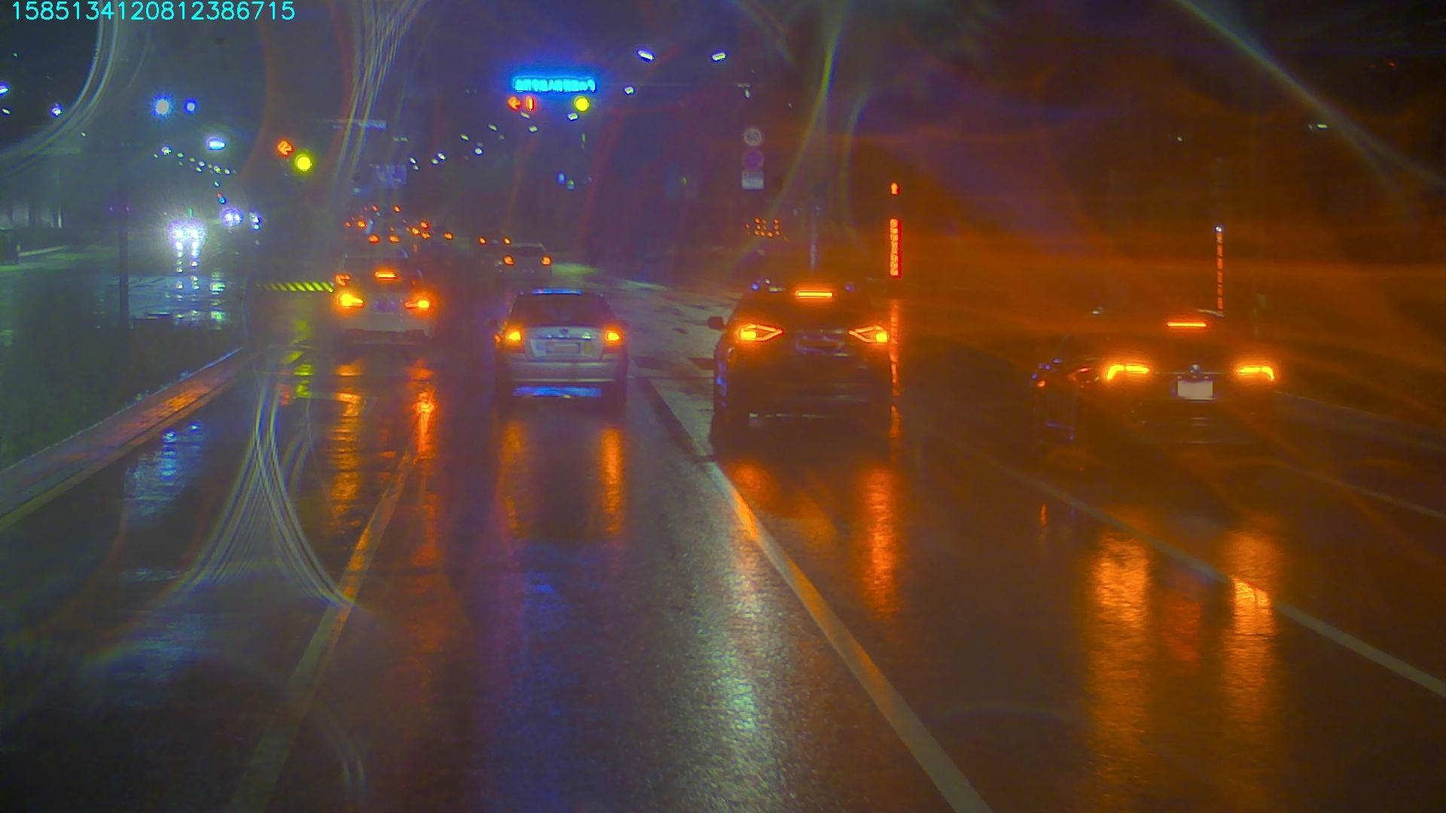red: (503, 94, 540, 111), (274, 138, 293, 155)
wait_on: (510, 72, 599, 91)
yellow: (569, 99, 591, 115), (297, 148, 315, 167)
